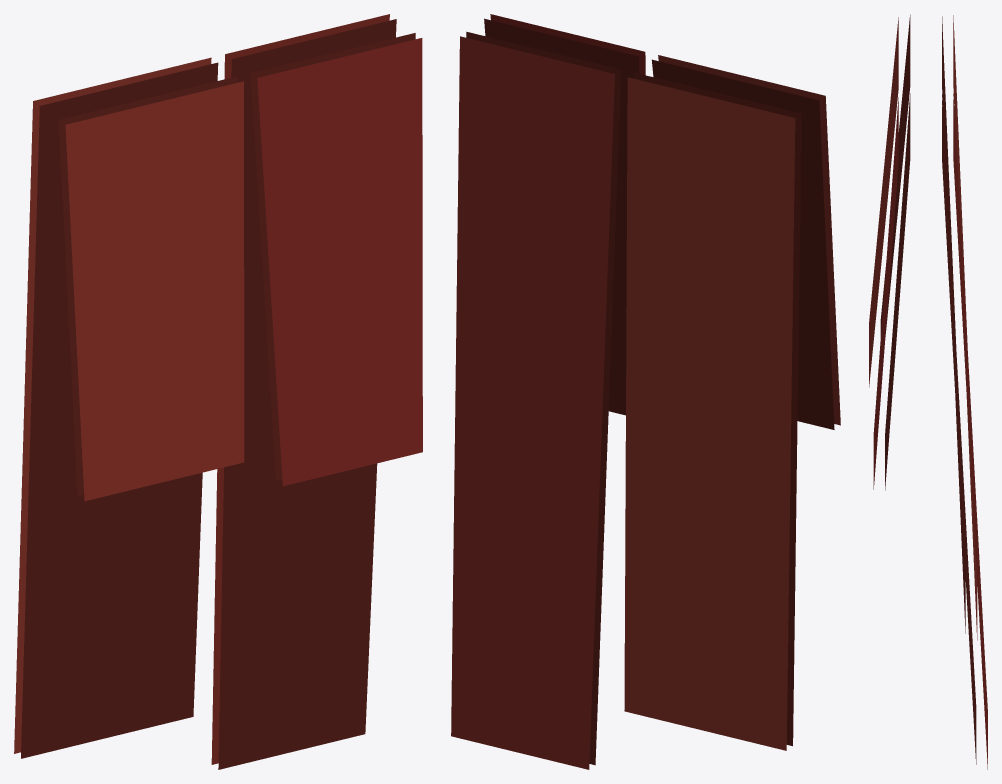
The model's file is drying_rack_carne.glb.
The picture shows the model from 3 angles, left to right: view 1: azimuth 30°, elevation 25°; view 2: azimuth 150°, elevation 25°; view 3: azimuth 270°, elevation 25°; orthographic projection. The views are drawn at different scales.
Parts seen in each view (by area): view 1: drying_rack_carne; view 2: drying_rack_carne; view 3: drying_rack_carne.
Part boxes in pixels (left/top/right/bottom): drying_rack_carne: left=14, top=14, right=422, bottom=769; drying_rack_carne: left=451, top=14, right=840, bottom=769; drying_rack_carne: left=869, top=14, right=987, bottom=769.
Bounding box in the file's own units: 0.7737 × 1.49 × 0.2606.
